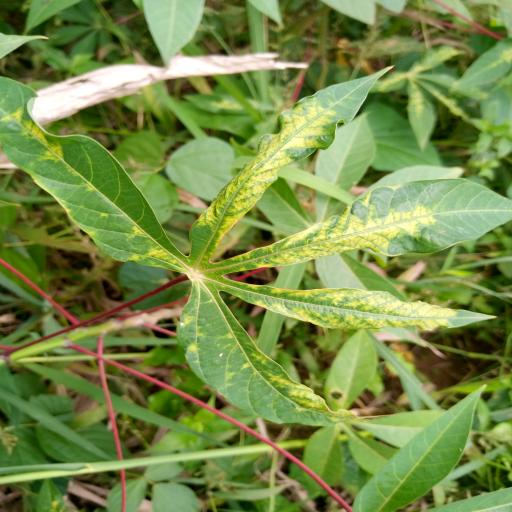Cassava_Mosaic: (0, 64, 512, 428)
